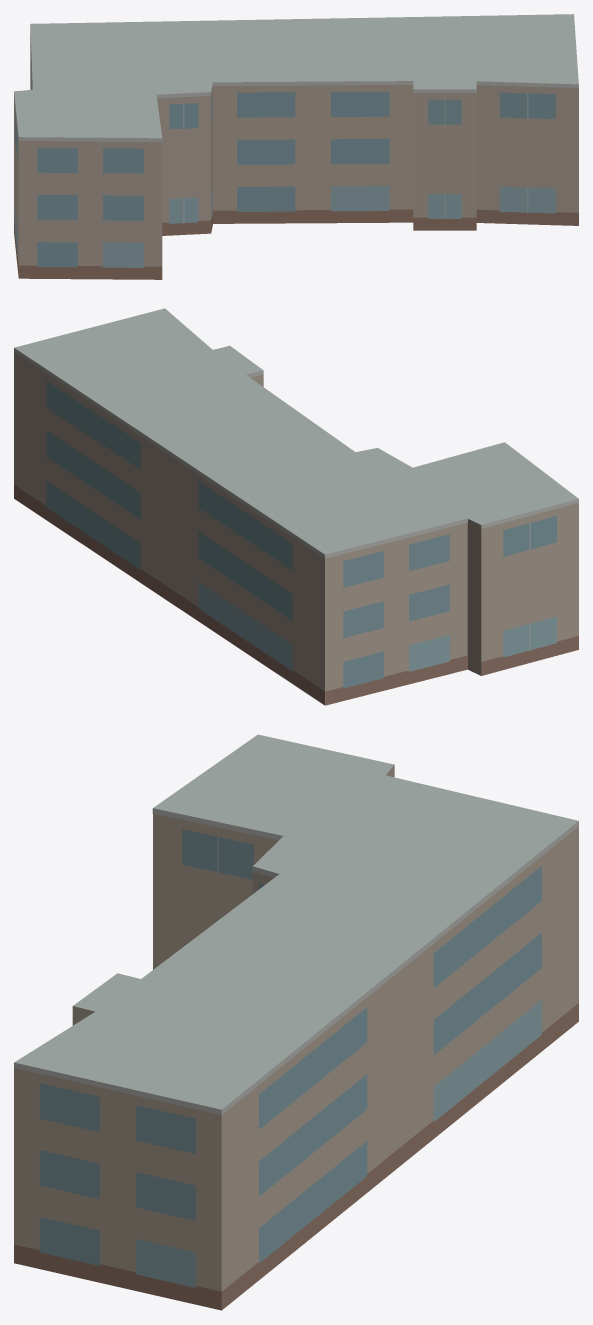
Rendered from survey-upis-32478209.glb.
3 views of the same model, one above another, from view 1: azimuth 30°, elevation 25°; view 2: azimuth 150°, elevation 25°; view 3: azimuth 270°, elevation 25° (orthographic). The views are drawn at different scales.
Parts seen in each view (by area): view 1: survey-upis-32478209.tmp; view 2: survey-upis-32478209.tmp; view 3: survey-upis-32478209.tmp.
Boxes of the visible parts, x1,y1,x2,y2 form: survey-upis-32478209.tmp: (14,14,578,279); survey-upis-32478209.tmp: (14,308,578,705); survey-upis-32478209.tmp: (14,734,578,1310).
Bounding box in the file's own units: 36.7 × 9.15 × 23.34.
